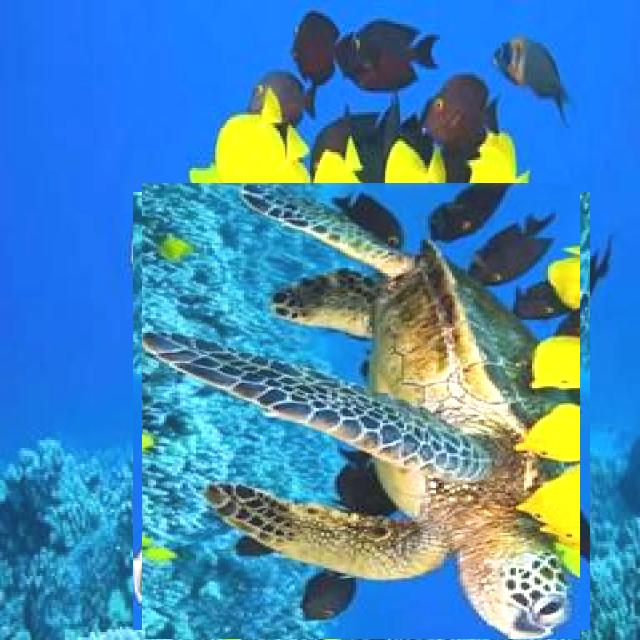Sea turtle: (138, 187, 585, 635)
